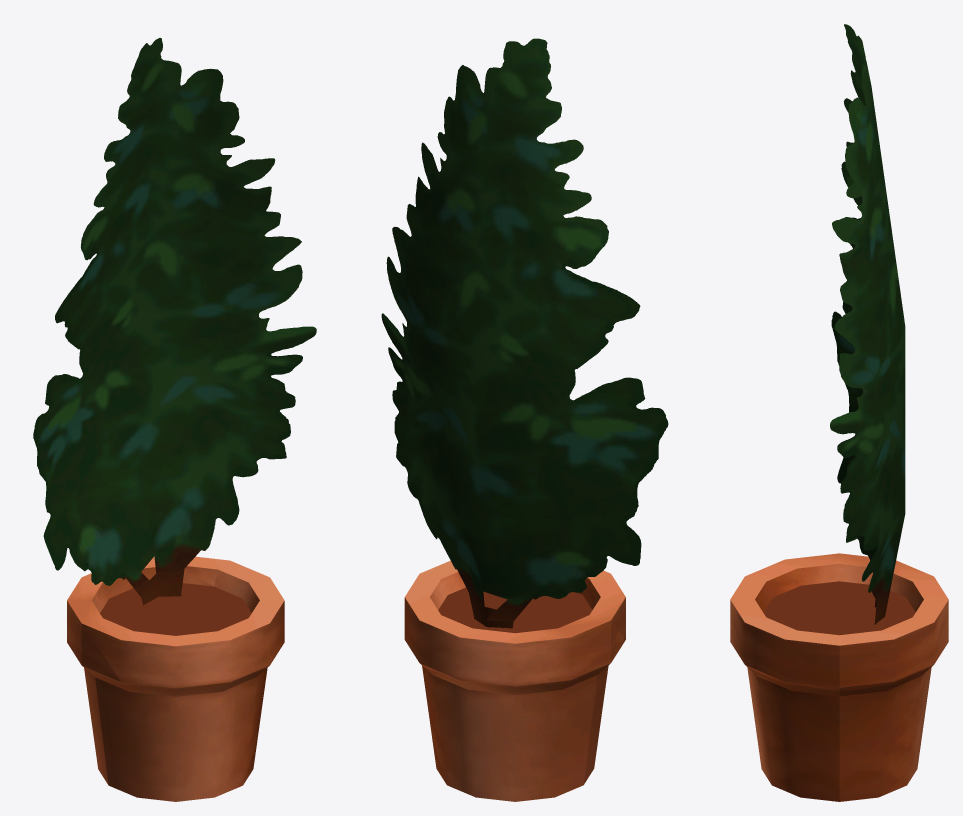
File: tree.FBX
3 renders of one model, left to right at view 1: azimuth 30°, elevation 25°; view 2: azimuth 150°, elevation 25°; view 3: azimuth 270°, elevation 25°, orthographic.
Visible parts, largest first — view 1: Mesh_0060; view 2: Mesh_0060; view 3: Mesh_0060.
Boxes of the visible parts, box(x1,y1,x2,y2) form: Mesh_0060: box(33, 38, 316, 801); Mesh_0060: box(381, 38, 668, 801); Mesh_0060: box(730, 24, 948, 801).
Size of the model in its own units: 248 by 543 by 143.
